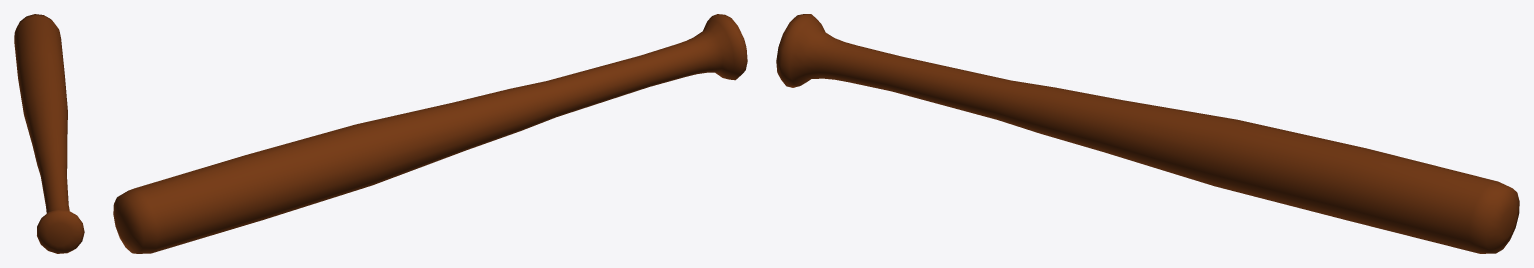
The model's file is bat2.fbx.
3 views of the same model, side by side, from view 1: azimuth 30°, elevation 25°; view 2: azimuth 150°, elevation 25°; view 3: azimuth 270°, elevation 25° (orthographic). The views are drawn at different scales.
Parts seen in each view (by area): view 1: Bate; view 2: Bate; view 3: Bate.
Part boxes in pixels (x1,y1,x2,y2): Bate: [14, 14, 84, 253]; Bate: [113, 14, 747, 253]; Bate: [776, 14, 1519, 253].
Bounding box in the file's own units: 623 × 138 × 1088.
